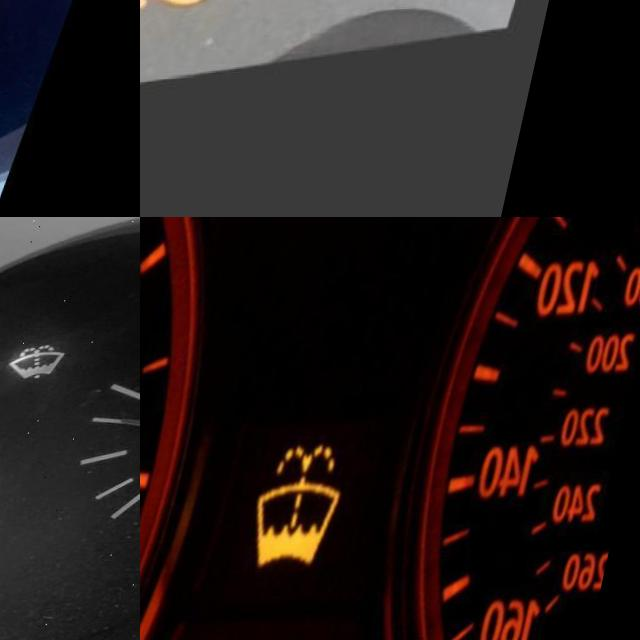Washer Fluid: (257, 448, 366, 571), (13, 342, 78, 388)
